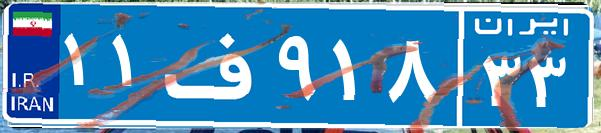1: (330, 28, 385, 110), (57, 26, 110, 107), (110, 28, 158, 105)
3: (475, 38, 525, 113), (525, 38, 570, 115)
8: (385, 28, 445, 110)
9: (273, 28, 330, 110)
ف: (158, 15, 273, 115)
